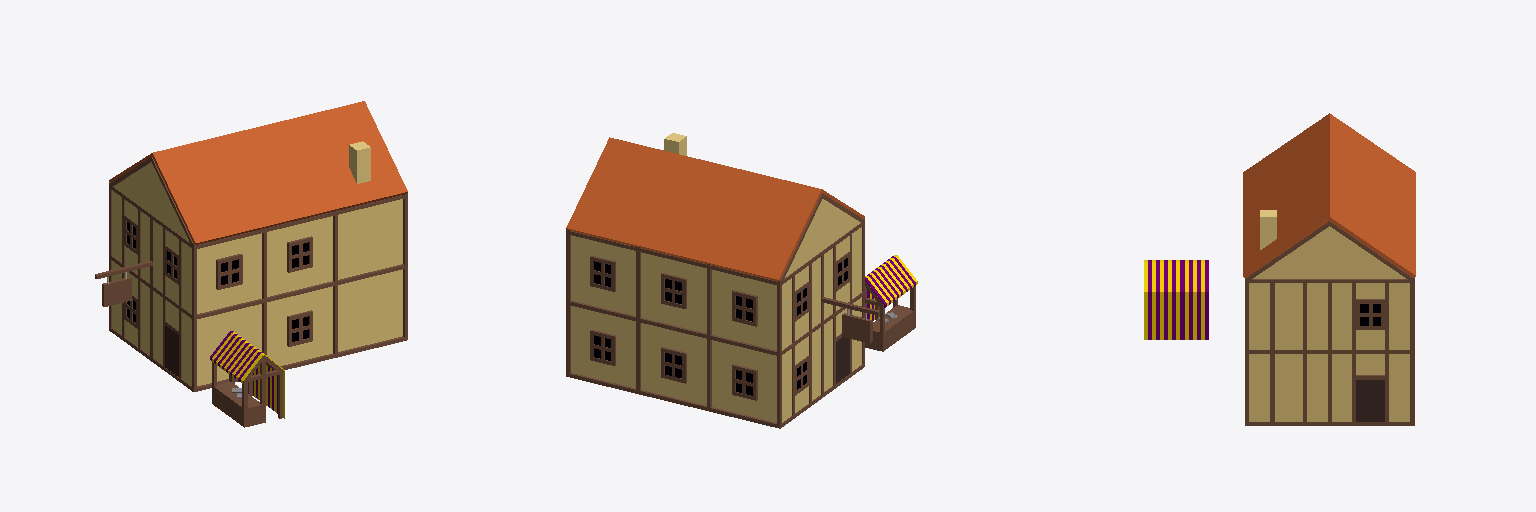
Rendered from timberframedclothier_purple_yellow.obj.
The picture shows the model from 3 angles: view 1: azimuth 30°, elevation 25°; view 2: azimuth 150°, elevation 25°; view 3: azimuth 270°, elevation 25°; orthographic projection.
Visible parts, largest first — view 1: Cube.005, Cube.007_Cube.011, Cube.011_Cube.015, Cube.018_Cube.016, Cube.056_Cube.081, Cube.001_Cube.058, Cube.013_Cube.080, Cube.006_Cube.010, Cube.055_Cube.059, Cube.026_Cube.019, Cube.073_Cube.078, Cube.012_Cube.017 (+5 smaller); view 2: Cube.005, Cube.007_Cube.011, Cube.023_Cube.026, Cube.022_Cube.025, Cube.021_Cube.024, Cube.015_Cube.020, Cube.019_Cube.022, Cube.017_Cube.021, Cube.014_Cube.018, Cube.008, Cube.020_Cube.023, Cube.073_Cube.078 (+6 smaller); view 3: Cube.005, Cube.007_Cube.011, Cube.147_Cube.153, Cube.003, Cube.033, Cube.027, Cube.047_Cube.049, Cube.031, Cube.016_Cube.013, Cube.006_Cube.010, Cube.012_Cube.017, Cube.035 (+4 smaller).
Part boxes in pixels (bbox=[...]): Cube.005: bbox=[112, 162, 402, 385]; Cube.007_Cube.011: bbox=[109, 101, 407, 244]; Cube.011_Cube.015: bbox=[195, 264, 406, 319]; Cube.018_Cube.016: bbox=[195, 195, 406, 249]; Cube.056_Cube.081: bbox=[216, 254, 242, 289]; Cube.001_Cube.058: bbox=[287, 310, 312, 346]; Cube.013_Cube.080: bbox=[287, 236, 312, 272]; Cube.006_Cube.010: bbox=[349, 141, 370, 183]; Cube.055_Cube.059: bbox=[197, 336, 406, 391]; Cube.026_Cube.019: bbox=[192, 243, 196, 391]; Cube.073_Cube.078: bbox=[102, 277, 131, 306]; Cube.012_Cube.017: bbox=[403, 193, 407, 339]; Cube.005: bbox=[571, 199, 861, 422]; Cube.007_Cube.011: bbox=[566, 137, 864, 280]; Cube.023_Cube.026: bbox=[567, 373, 776, 427]; Cube.022_Cube.025: bbox=[567, 301, 776, 355]; Cube.021_Cube.024: bbox=[570, 231, 776, 284]; Cube.015_Cube.020: bbox=[732, 290, 757, 326]; Cube.019_Cube.022: bbox=[661, 347, 686, 383]; Cube.017_Cube.021: bbox=[590, 330, 615, 365]; Cube.014_Cube.018: bbox=[661, 273, 686, 308]; Cube.008: bbox=[590, 255, 615, 291]; Cube.020_Cube.023: bbox=[732, 364, 757, 400]; Cube.073_Cube.078: bbox=[842, 313, 872, 343]; Cube.005: bbox=[1249, 226, 1409, 421]; Cube.007_Cube.011: bbox=[1243, 113, 1415, 277]; Cube.147_Cube.153: bbox=[1144, 292, 1208, 339]; Cube.003: bbox=[1356, 380, 1384, 421]; Cube.033: bbox=[1356, 299, 1384, 329]; Cube.027: bbox=[1410, 277, 1414, 425]; Cube.047_Cube.049: bbox=[1270, 279, 1274, 423]; Cube.031: bbox=[1249, 422, 1410, 425]; Cube.016_Cube.013: bbox=[1248, 350, 1409, 353]; Cube.006_Cube.010: bbox=[1260, 210, 1276, 249]; Cube.012_Cube.017: bbox=[1245, 277, 1248, 425]; Cube.035: bbox=[1352, 279, 1355, 423].
Bounding box in the file's own units: 15.3 × 11.25 × 13.34.